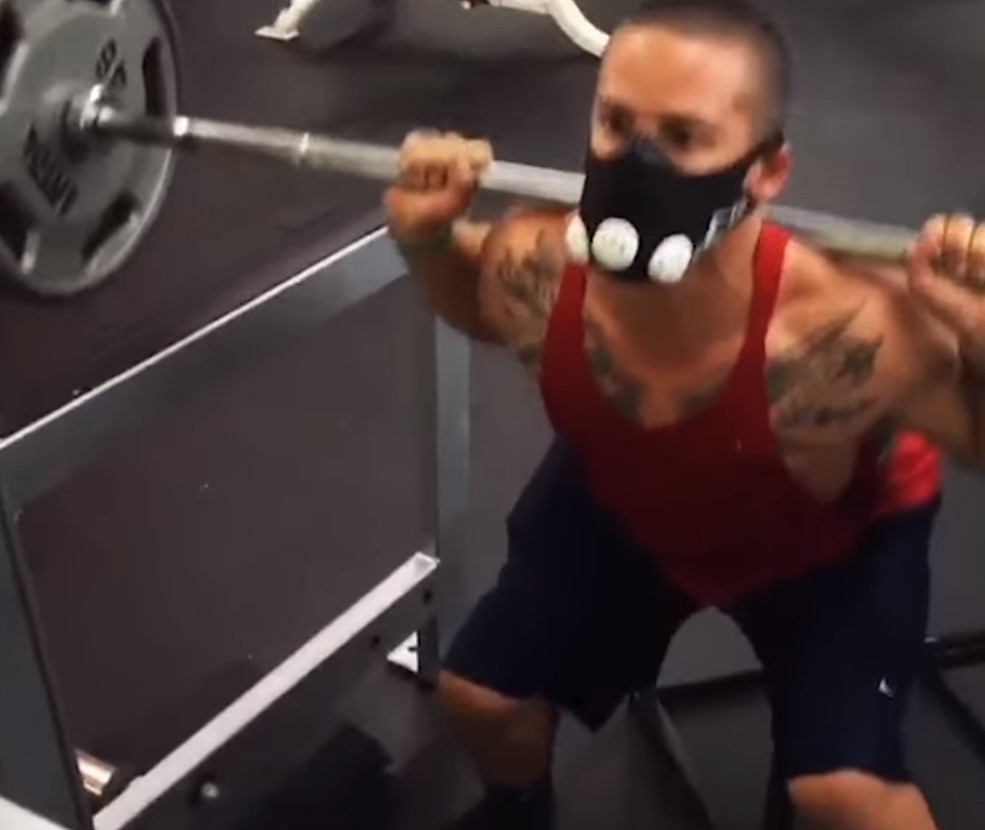face_with_mask: (566, 9, 791, 286)
